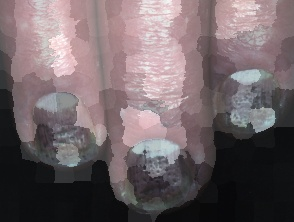Nail_psoriasis: (203, 54, 294, 150), (22, 86, 108, 176), (112, 134, 205, 215)
